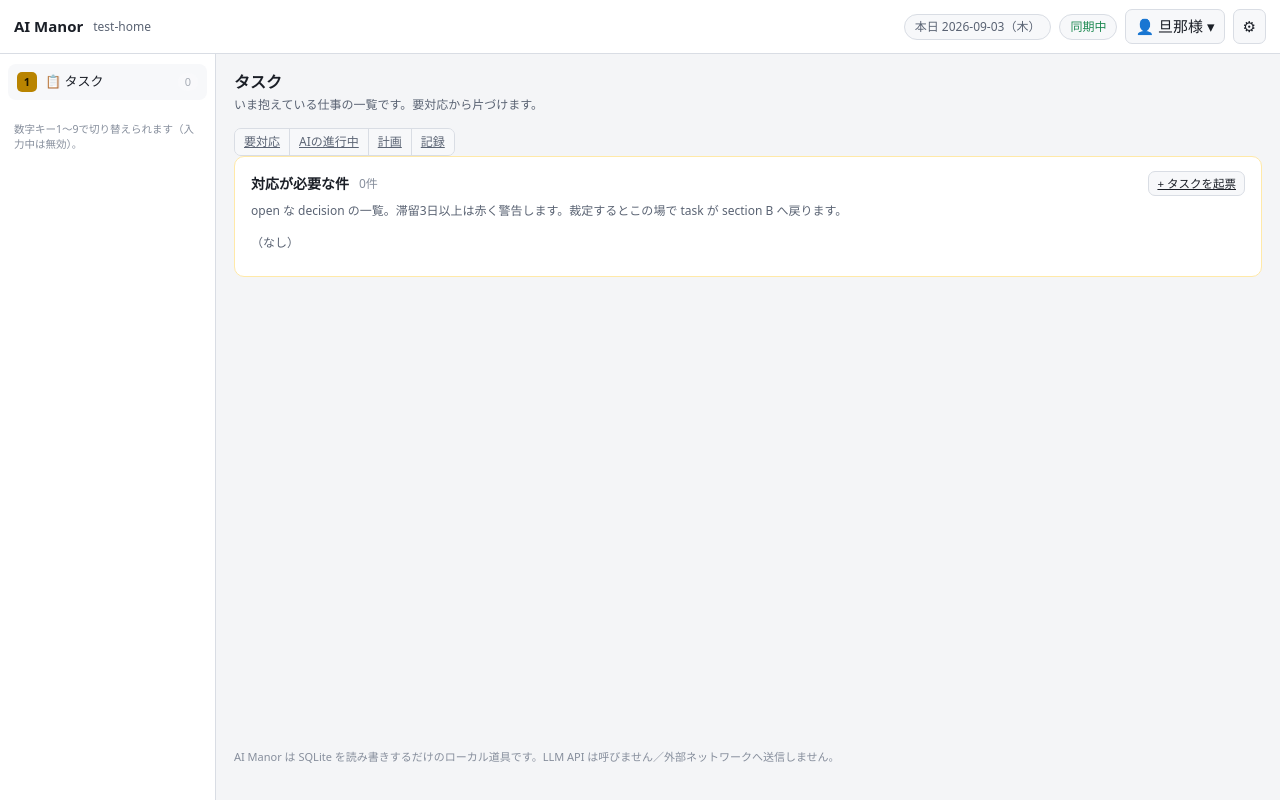
Test case: App — 利用者チップ（ADR-014 D3。誰として見ているかの常時表示と切り替え） › 外側をクリックするとメニューが閉じる
Click the button "👤 旦那様 ▾".
click(1175, 27)  # box [1126, 9, 1225, 44]
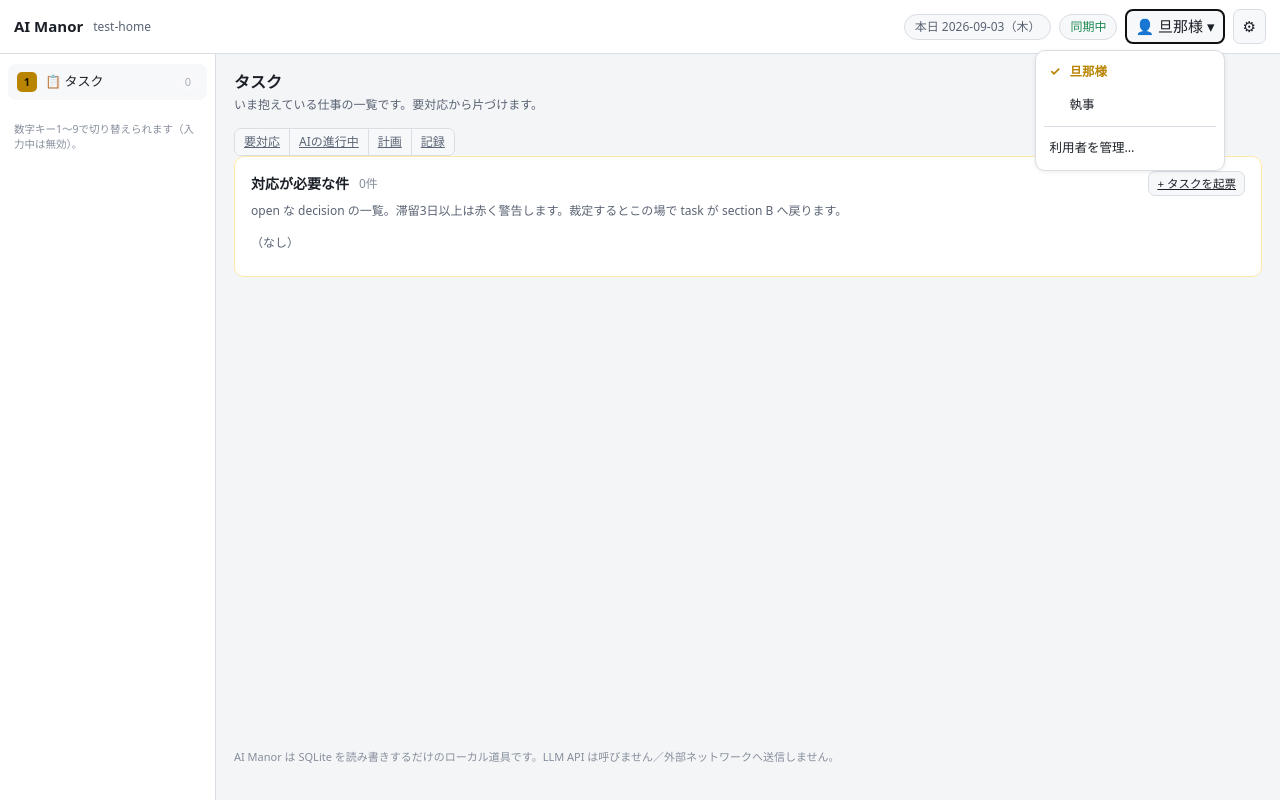
Check: the menu is shown, box [1034, 50, 1224, 171]
Click the element that starts with "AI Manor".
click(640, 400)  # box [0, 0, 1279, 799]
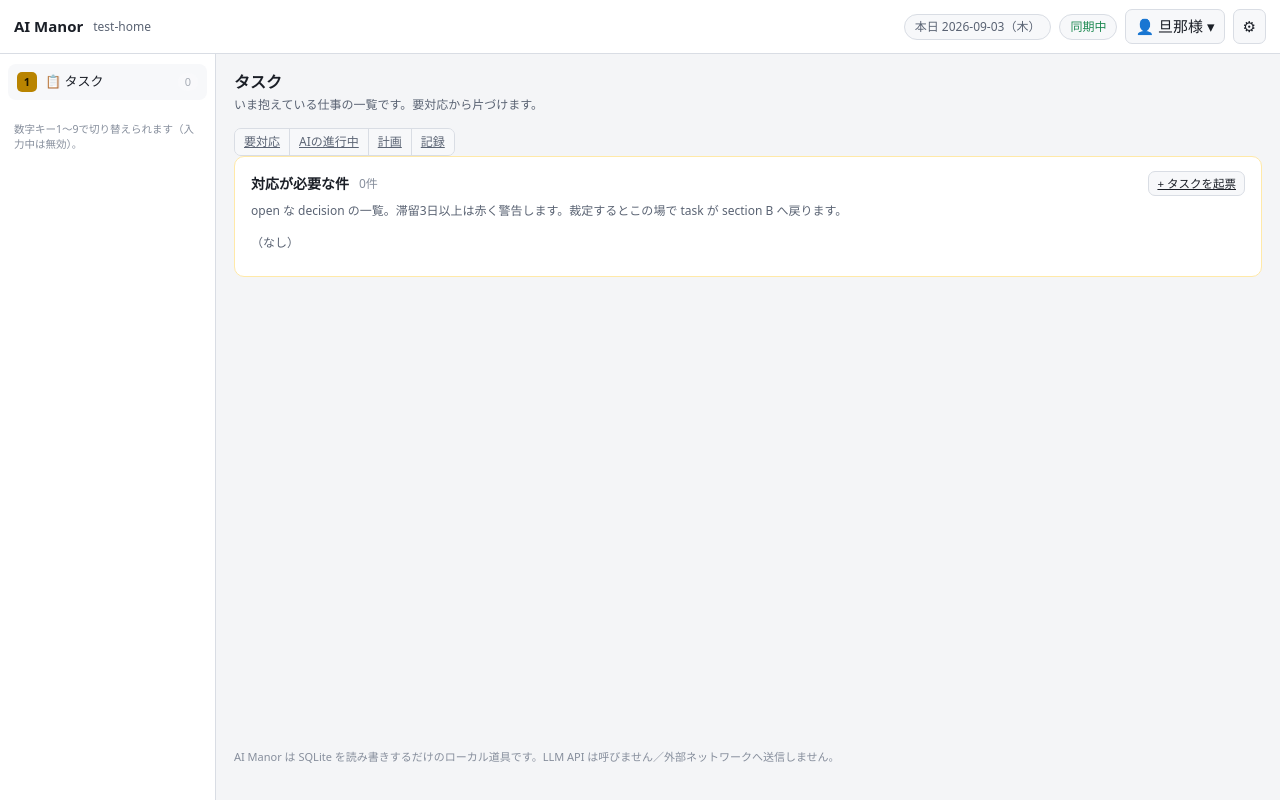
Check: the menu is gone
